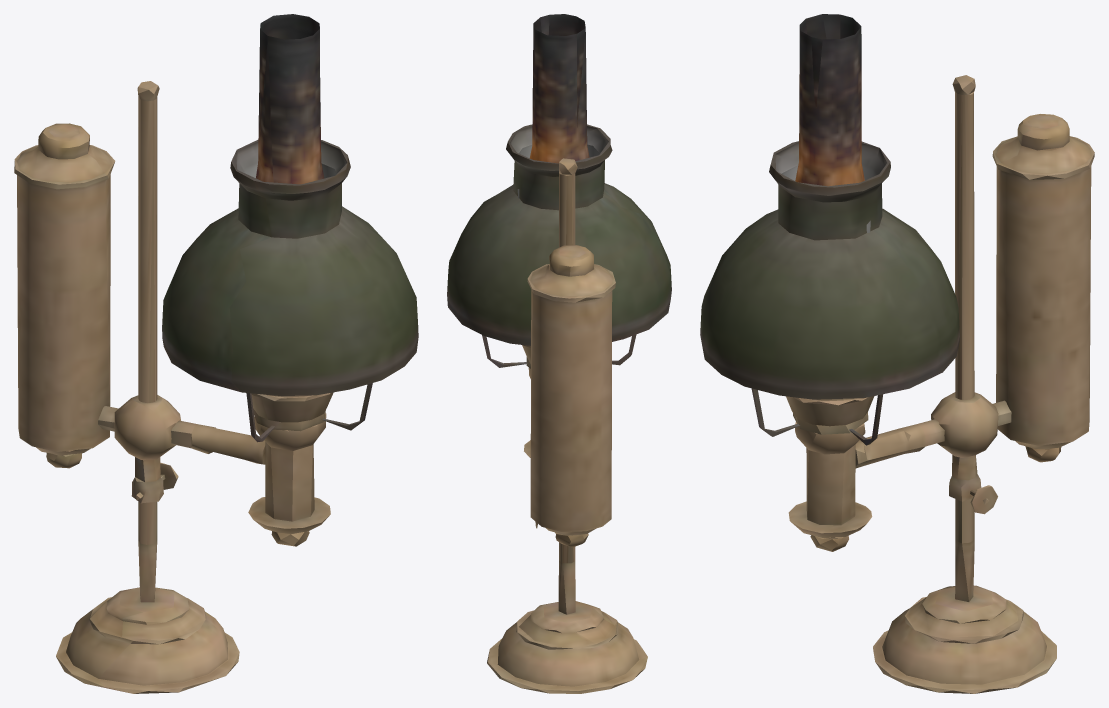
Rendered from lamp-oil-table-large.lod1.glb.
The picture shows the model from 3 angles, left to right: view 1: azimuth 30°, elevation 25°; view 2: azimuth 150°, elevation 25°; view 3: azimuth 270°, elevation 25°; orthographic projection. The views are drawn at different scales.
Visible parts, largest first — view 1: lamp-oil-table-large; view 2: lamp-oil-table-large; view 3: lamp-oil-table-large.
Part boxes in pixels (x1,y1,x2,y2): lamp-oil-table-large: (14, 14, 418, 693); lamp-oil-table-large: (447, 14, 671, 693); lamp-oil-table-large: (700, 14, 1094, 693).
Bounding box in the file's own units: 0.2367 × 0.5429 × 0.2919.
Materials: 1 (1 with a texture image).
